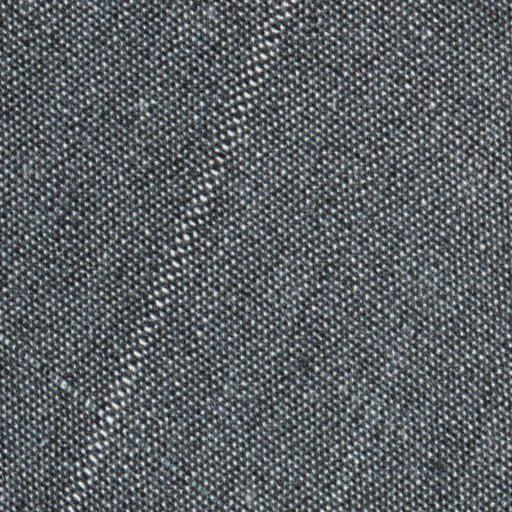slub: (58, 3, 308, 511)
